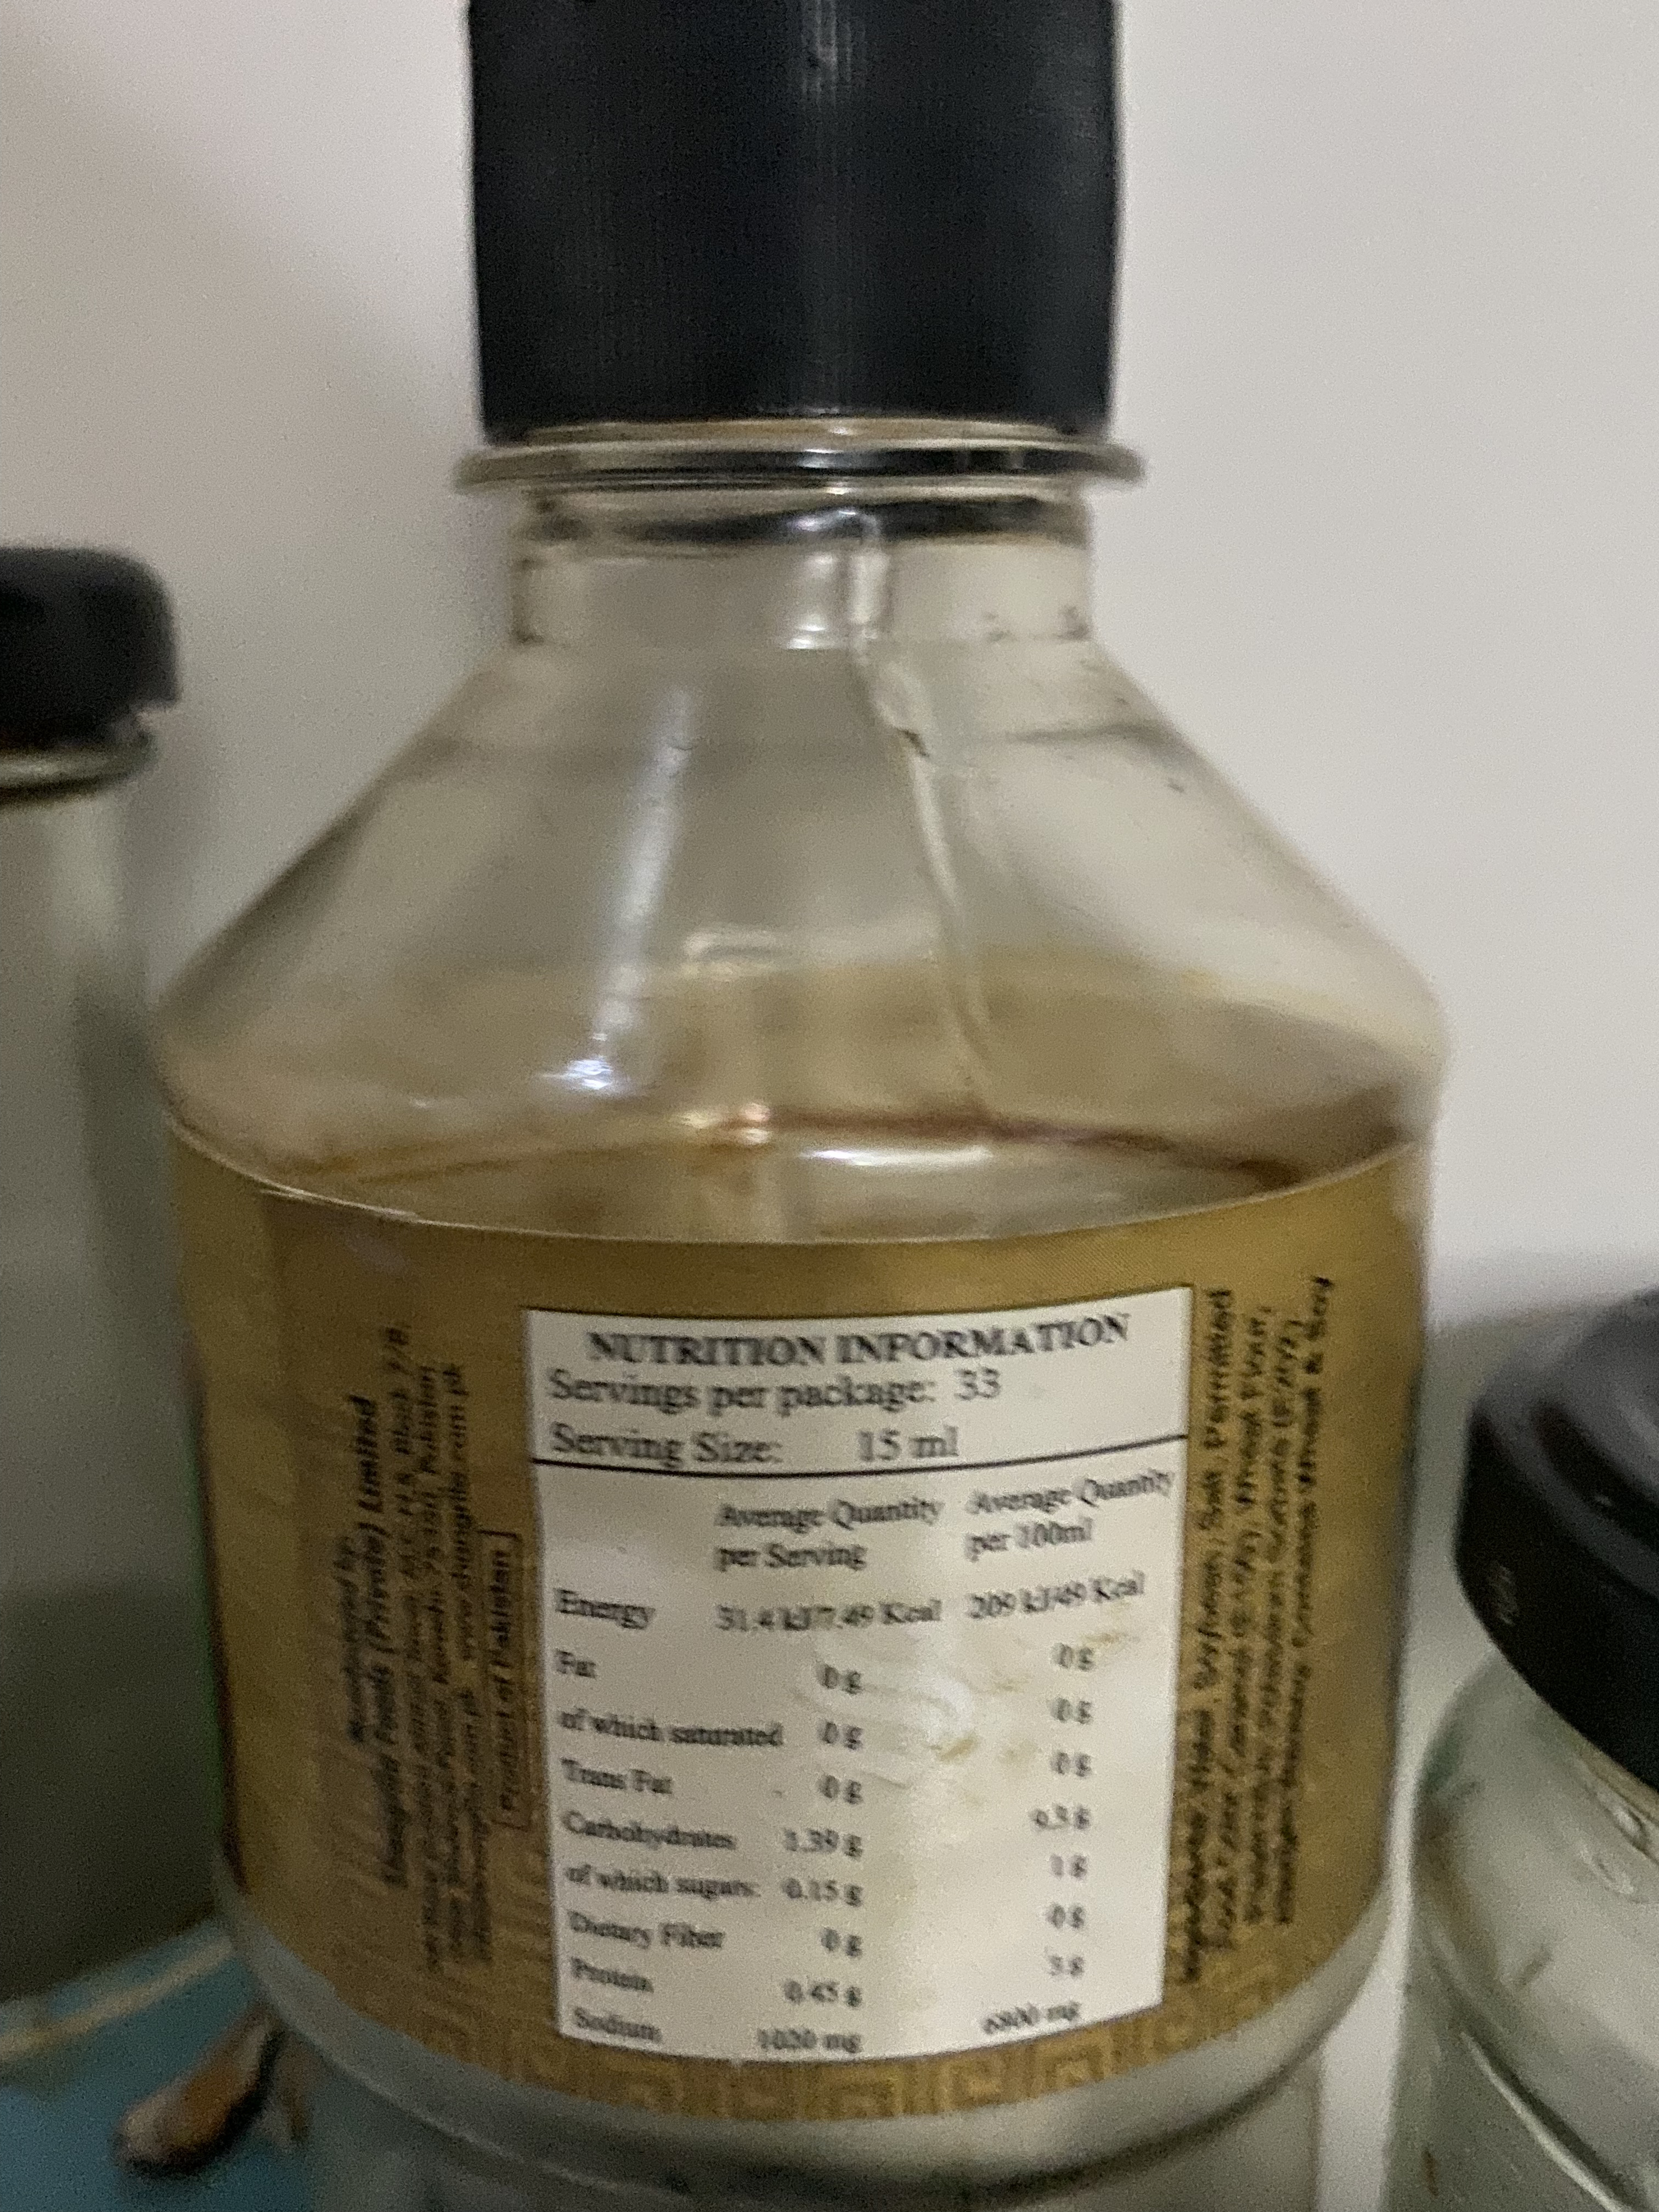table: (518, 1296, 1190, 2069)
